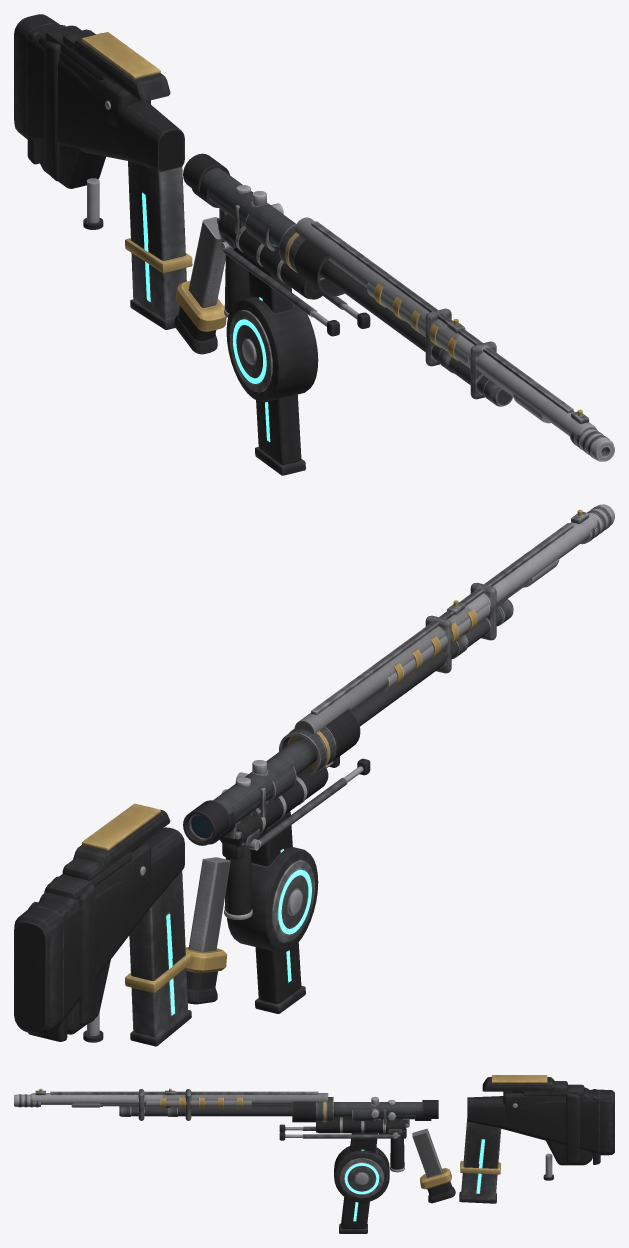
The model's file is attachments.glb.
3 renders of one model, top to bottom at view 1: azimuth 30°, elevation 25°; view 2: azimuth 150°, elevation 25°; view 3: azimuth 270°, elevation 25°, orthographic. The views are drawn at different scales.
Visible parts, largest first — view 1: Shotgun_HeavyStock, Shotgun_LongBarrel, AssaultRifle_Drum, MarksmanRifle_HeavyStock, LongScope, MarksmanRifle_ExtendedMagazine, AssaultRifle_HeavyStock, AssaultRifle_ExtendedMagazine, MarksmanRifle_QuickMagazine, Shotgun_ShortBarrel, Pistol_ExtendedMagazine, MarksmanRifle_LongBarrel (+5 smaller); view 2: Shotgun_HeavyStock, Shotgun_LongBarrel, MarksmanRifle_ExtendedMagazine, AssaultRifle_Drum, LongScope, MarksmanRifle_HeavyStock, Shotgun_ShortBarrel, Pistol_ExtendedMagazine, AssaultRifle_HeavyStock, AssaultRifle_ExtendedMagazine, Suppressor, MarksmanRifle_LongBarrel (+5 smaller); view 3: Shotgun_HeavyStock, Shotgun_LongBarrel, AssaultRifle_Drum, MarksmanRifle_HeavyStock, LongScope, MarksmanRifle_ExtendedMagazine, MarksmanRifle_QuickMagazine, AssaultRifle_HeavyStock, Shotgun_ShortBarrel, AssaultRifle_ExtendedMagazine, MarksmanRifle_LongBarrel, Suppressor (+6 smaller).
Part boxes in pixels (bbox=[...]): Shotgun_HeavyStock: bbox=[14, 14, 184, 171]; Shotgun_LongBarrel: bbox=[294, 217, 596, 437]; AssaultRifle_Drum: bbox=[226, 256, 318, 402]; MarksmanRifle_HeavyStock: bbox=[44, 32, 170, 229]; LongScope: bbox=[183, 153, 344, 296]; MarksmanRifle_ExtendedMagazine: bbox=[128, 161, 186, 329]; AssaultRifle_HeavyStock: bbox=[27, 25, 150, 188]; AssaultRifle_ExtendedMagazine: bbox=[248, 259, 305, 475]; MarksmanRifle_QuickMagazine: bbox=[125, 160, 192, 273]; Shotgun_ShortBarrel: bbox=[295, 218, 465, 373]; Pistol_ExtendedMagazine: bbox=[174, 217, 225, 354]; MarksmanRifle_LongBarrel: bbox=[367, 282, 614, 461]; Shotgun_HeavyStock: bbox=[14, 827, 184, 1035]; Shotgun_LongBarrel: bbox=[294, 509, 597, 738]; MarksmanRifle_ExtendedMagazine: bbox=[130, 871, 191, 1046]; AssaultRifle_Drum: bbox=[227, 811, 318, 952]; LongScope: bbox=[183, 709, 360, 845]; MarksmanRifle_HeavyStock: bbox=[44, 803, 170, 1042]; Shotgun_ShortBarrel: bbox=[300, 600, 470, 733]; Pistol_ExtendedMagazine: bbox=[186, 857, 230, 1004]; AssaultRifle_HeavyStock: bbox=[28, 842, 150, 1041]; AssaultRifle_ExtendedMagazine: bbox=[255, 811, 305, 1013]; Suppressor: bbox=[220, 766, 328, 847]; MarksmanRifle_LongBarrel: bbox=[380, 504, 614, 692]; Shotgun_HeavyStock: bbox=[467, 1084, 614, 1155]; Shotgun_LongBarrel: bbox=[31, 1088, 328, 1120]; AssaultRifle_Drum: bbox=[334, 1132, 389, 1202]; MarksmanRifle_HeavyStock: bbox=[482, 1075, 580, 1180]; LongScope: bbox=[292, 1096, 438, 1122]; MarksmanRifle_ExtendedMagazine: bbox=[459, 1122, 501, 1203]; MarksmanRifle_QuickMagazine: bbox=[460, 1118, 500, 1174]; AssaultRifle_HeavyStock: bbox=[503, 1081, 600, 1165]; Shotgun_ShortBarrel: bbox=[162, 1088, 328, 1120]; AssaultRifle_ExtendedMagazine: bbox=[339, 1132, 375, 1233]; MarksmanRifle_LongBarrel: bbox=[14, 1094, 251, 1108]; Suppressor: bbox=[316, 1117, 405, 1133].
Bounding box in the file's own units: 0.062 × 0.352 × 1.25.
Materials: 1 (1 with a texture image).
